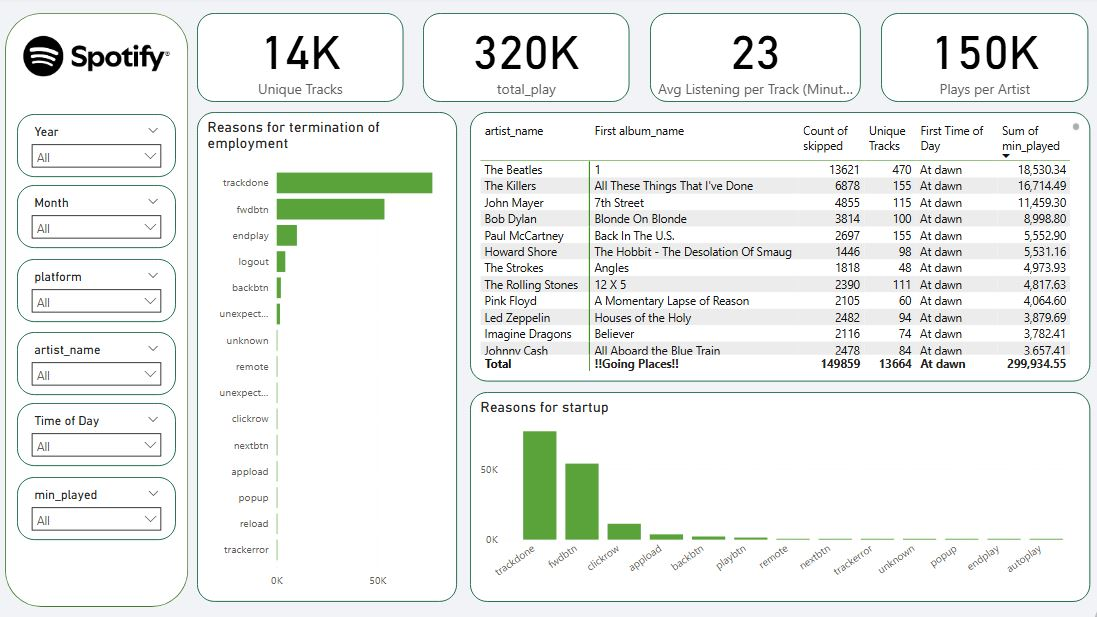

The dashboard page shown, as its layout file describes it:
{"tool":"powerbi","page":{"name":"S","canvas":[1280,720],"ordinal":1},"visuals":[{"type":"shape","box":[9,18,212,687.6],"z":0},{"type":"barChart","title":"Reasons for termination of employment","fields":{"Category":["spotify_history.reason_end"],"Y":["CountNonNull(spotify_history.track_name)"]},"box":[231.8,133.2,301,567.4],"z":1000},{"type":"pivotTable","fields":{"Values":["Min(spotify_history.album_name)","CountNonNull(spotify_history.skipped)","spotify_history.Unique Tracks","Min(spotify_history.Time of Day)","Sum(spotify_history.min_played)"],"Rows":["spotify_history.artist_name"]},"box":[547.5,133.7,718.4,312.3],"z":2000},{"type":"columnChart","title":"Reasons for startup","fields":{"Category":["spotify_history.reason_start"],"Y":["CountNonNull(spotify_history.track_name)"]},"box":[547.5,457.5,718.4,242.9],"z":3000},{"type":"card","fields":{"Values":["spotify_history.Avg Listening per Track (Minutes)"]},"box":[755.7,18,244.2,102.8],"z":4000},{"type":"card","fields":{"Values":["spotify_history.Plays per Artist"]},"box":[1023,18,240.3,102.8],"z":5000},{"type":"card","fields":{"Values":["spotify_history.total_play"]},"box":[493.5,18,239,102.8],"z":6000},{"type":"card","fields":{"Values":["spotify_history.Unique Tracks"]},"box":[231.3,18,239,102.8],"z":7000},{"type":"slicer","fields":{"Values":["spotify_history.data_start.Variation.Date Hierarchy.Year"]},"box":[23.1,134.9,183.8,73.3],"z":8000},{"type":"slicer","fields":{"Values":["spotify_history.data_start.Variation.Date Hierarchy.Month"]},"box":[23.1,217.2,183.8,73.3],"z":9000},{"type":"slicer","fields":{"Values":["spotify_history.platform"]},"box":[23.1,303.3,183.8,73.3],"z":10000},{"type":"slicer","fields":{"Values":["spotify_history.artist_name"]},"box":[23.1,388.1,183.8,73.3],"z":11000},{"type":"slicer","fields":{"Values":["spotify_history.Time of Day"]},"box":[23.1,470.4,183.8,73.3],"z":12000},{"type":"slicer","fields":{"Values":["spotify_history.min_played"]},"box":[22.6,555.4,183.8,73.3],"z":13000},{"type":"image","box":[22.6,18.6,183.8,99.9],"z":14000}]}

Visuals, with their boxes in screenshot pixels (x1, y1, x2, y2), scaled from the page's 1280x720 canvas onto the 1097x617 screenshot:
shape: region(8, 15, 189, 605)
"Reasons for termination of employment" barChart: region(199, 114, 457, 600)
pivotTable - Min(spotify_history.album_name) x CountNonNull(spotify_history.skipped): region(469, 115, 1085, 382)
"Reasons for startup" columnChart: region(469, 392, 1085, 600)
card - spotify_history.Avg Listening per Track (Minutes): region(648, 15, 857, 104)
card - spotify_history.Plays per Artist: region(877, 15, 1083, 104)
card - spotify_history.total_play: region(423, 15, 628, 104)
card - spotify_history.Unique Tracks: region(198, 15, 403, 104)
slicer - spotify_history.data_start.Variation.Date Hierarchy.Year: region(20, 116, 177, 178)
slicer - spotify_history.data_start.Variation.Date Hierarchy.Month: region(20, 186, 177, 249)
slicer - spotify_history.platform: region(20, 260, 177, 323)
slicer - spotify_history.artist_name: region(20, 333, 177, 395)
slicer - spotify_history.Time of Day: region(20, 403, 177, 466)
slicer - spotify_history.min_played: region(19, 476, 177, 539)
image: region(19, 16, 177, 102)
